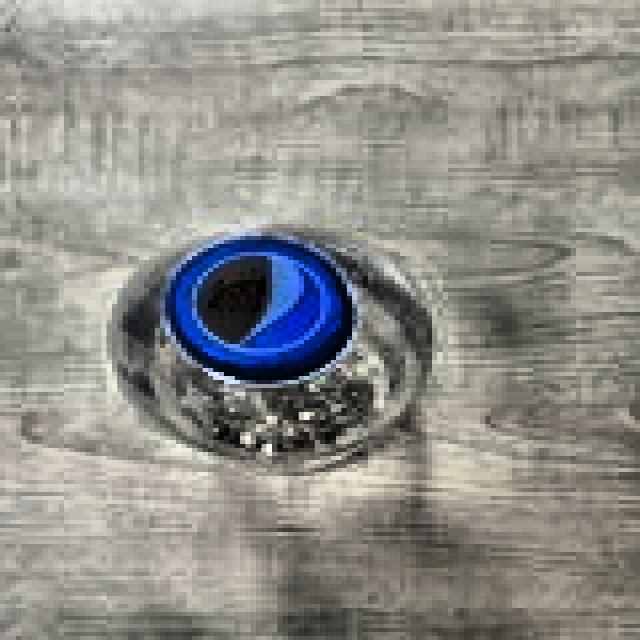plastic: (91, 200, 453, 516)
